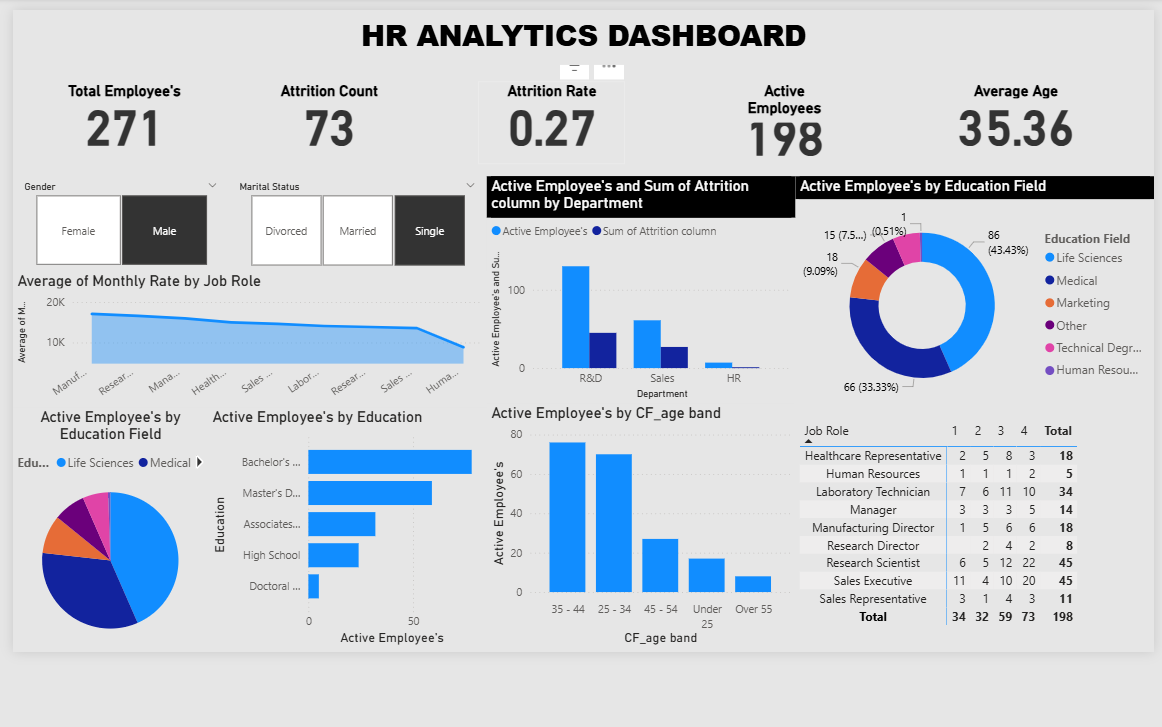

What the dashboard file says about the page in this screenshot:
{"tool":"powerbi","page":{"name":"Page 1","canvas":[1280,720],"ordinal":0},"visuals":[{"type":"card","title":"Total Employee''s","fields":{"Values":["Sum(HR data.Employee Count)"]},"box":[42.5,79.6,166,93.3],"z":0},{"type":"card","title":"Average Age","fields":{"Values":["Avg(HR data.Age)"]},"box":[1041.9,79.9,166.9,92.6],"z":1000},{"type":"card","title":"Active Employees","fields":{"Values":["HR data.Active Employee's"]},"box":[782.2,79.6,166,93.3],"z":2000},{"type":"card","title":"Attrition Rate","fields":{"Values":["HR data.Attrition Rate"]},"box":[521.4,79.6,166,93.3],"z":3000},{"type":"card","title":"Attrition Count","fields":{"Values":["Sum(HR data.Attrition column)"]},"box":[271.7,79.6,166,93.3],"z":4000},{"type":"clusteredColumnChart","fields":{"Y":["HR data.Active Employee's","Sum(HR data.Attrition column)"],"Category":["HR data.Department"]},"box":[531.5,186.5,346.4,255.2],"z":5000},{"type":"donutChart","fields":{"Category":["HR data.Education Field"],"Y":["HR data.Active Employee's"]},"box":[877.8,186.5,402.5,269.2],"z":6000},{"type":"columnChart","fields":{"Y":["HR data.Active Employee's"],"Category":["HR data.CF_age band"]},"box":[531.5,441.7,346.4,276.2],"z":7000},{"type":"pivotTable","fields":{"Rows":["HR data.Job Role"],"Columns":["HR data.Job Satisfaction"],"Values":["HR data.Active Employee's"]},"box":[877.8,455.7,402.5,262.2],"z":8000},{"type":"pieChart","fields":{"Category":["HR data.Education Field"],"Y":["HR data.Active Employee's"]},"box":[0,445.9,218.8,272],"z":9000},{"type":"clusteredBarChart","fields":{"Category":["HR data.Education"],"Y":["HR data.Active Employee's"]},"box":[218.8,445.9,312.7,272],"z":10000},{"type":"areaChart","fields":{"Category":["HR data.Job Role"],"Y":["Avg(HR data.Monthly Rate)"]},"box":[0,293.1,531.5,152.8],"z":11000},{"type":"slicer","fields":{"Values":["HR data.Gender"]},"box":[0,186.5,241.2,106.6],"z":12000},{"type":"slicer","fields":{"Values":["HR data.Marital Status"]},"box":[241.5,186.6,289.5,107],"z":13000},{"type":"textbox","box":[0,0,1280.3,61.7],"z":14000}]}

Visuals, with their boxes on the page's 1280x720 design canvas (x1, y1, x2, y2). These are canvas units, not pixel positions in the 1162x727 screenshot, which may show the page scaled, cropped or inside an application window:
"Total Employee''s" card: <box>42,80,208,173</box>
"Average Age" card: <box>1042,80,1209,172</box>
"Active Employees" card: <box>782,80,948,173</box>
"Attrition Rate" card: <box>521,80,687,173</box>
"Attrition Count" card: <box>272,80,438,173</box>
clusteredColumnChart - HR data.Active Employee's x Sum(HR data.Attrition column): <box>532,186,878,442</box>
donutChart - HR data.Education Field x HR data.Active Employee's: <box>878,186,1280,456</box>
columnChart - HR data.Active Employee's x HR data.CF_age band: <box>532,442,878,718</box>
pivotTable - HR data.Job Role x HR data.Job Satisfaction: <box>878,456,1280,718</box>
pieChart - HR data.Education Field x HR data.Active Employee's: <box>0,446,219,718</box>
clusteredBarChart - HR data.Education x HR data.Active Employee's: <box>219,446,532,718</box>
areaChart - HR data.Job Role x Avg(HR data.Monthly Rate): <box>0,293,532,446</box>
slicer - HR data.Gender: <box>0,186,241,293</box>
slicer - HR data.Marital Status: <box>242,187,531,294</box>
textbox: <box>0,0,1280,62</box>
